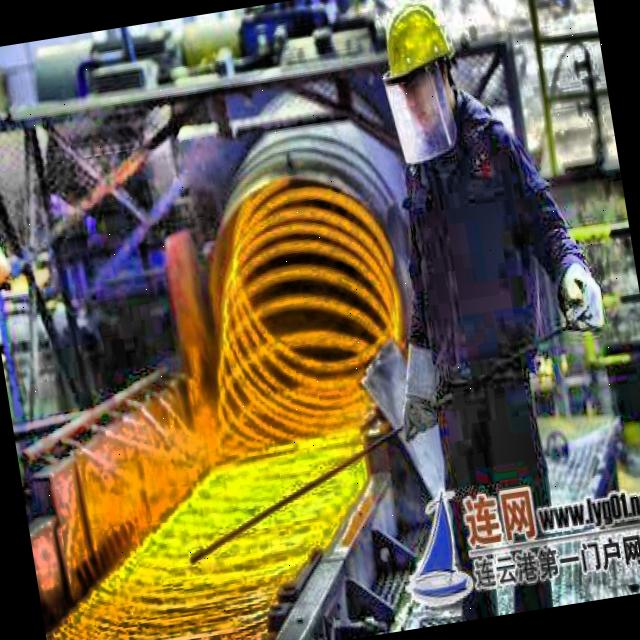helmet: (368, 0, 474, 157)
